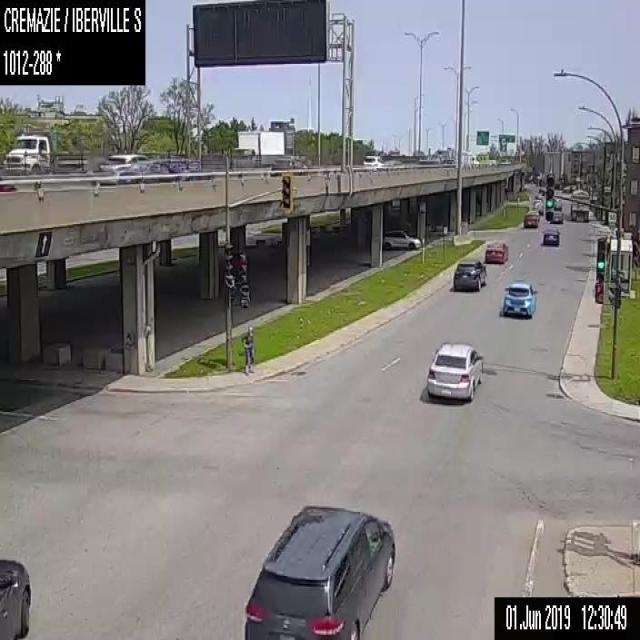pedestrian: (242, 324, 254, 373)
vehicle: (242, 502, 394, 638), (426, 340, 484, 401), (4, 133, 88, 171), (0, 557, 31, 639), (230, 127, 285, 165), (116, 160, 181, 182), (500, 277, 536, 316), (98, 150, 151, 174), (452, 257, 486, 292), (270, 158, 313, 178), (382, 227, 421, 249), (569, 188, 589, 221), (484, 241, 508, 263), (362, 152, 386, 167), (542, 226, 560, 244), (378, 160, 404, 171), (460, 150, 479, 165), (418, 158, 439, 168), (523, 212, 537, 227), (549, 209, 563, 223), (525, 207, 539, 221), (530, 198, 543, 212), (477, 151, 488, 166), (498, 158, 510, 167), (554, 197, 561, 209), (445, 158, 455, 166), (488, 158, 496, 166)
